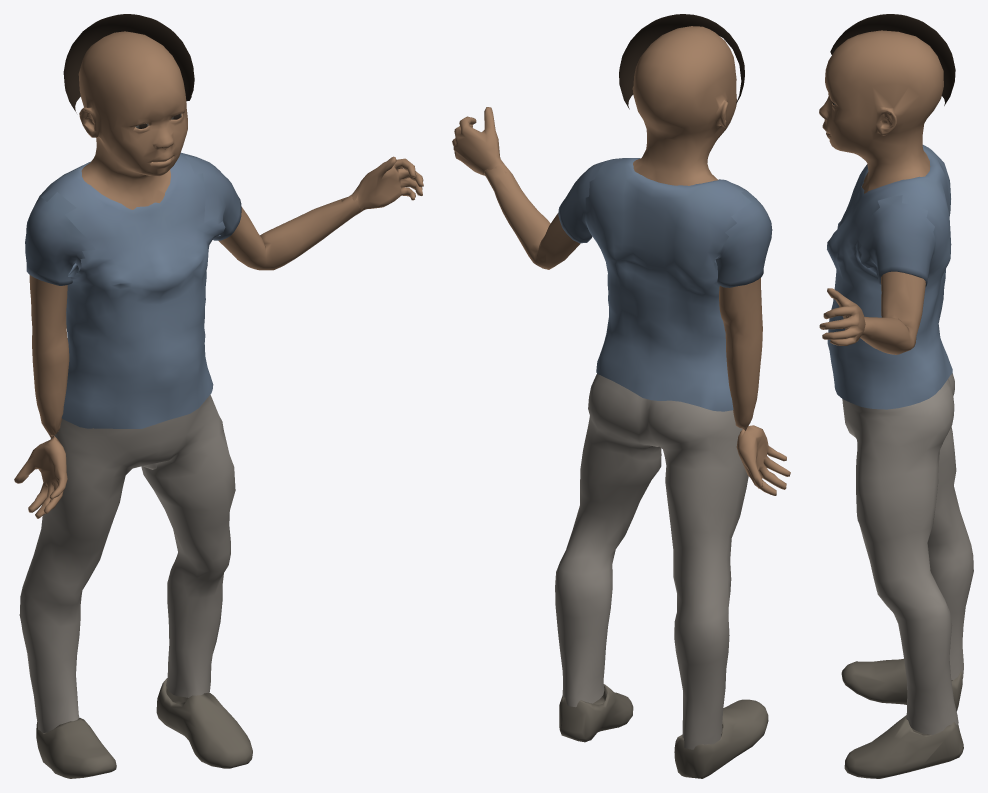
The model's file is participant-23-middle.glb.
The picture shows the model from 3 angles, left to right: view 1: azimuth 30°, elevation 25°; view 2: azimuth 150°, elevation 25°; view 3: azimuth 270°, elevation 25°; orthographic projection. The views are drawn at different scales.
Parts seen in each view (by area): view 1: Participant anatomy and ordinary clothes; view 2: Participant anatomy and ordinary clothes; view 3: Participant anatomy and ordinary clothes.
Boxes of the visible parts, x1,y1,x2,y2 form: Participant anatomy and ordinary clothes: (14,14,423,778); Participant anatomy and ordinary clothes: (452,14,790,778); Participant anatomy and ordinary clothes: (819,14,973,778).
Bounding box in the file's own units: 0.6116 × 1.21 × 0.2383.
